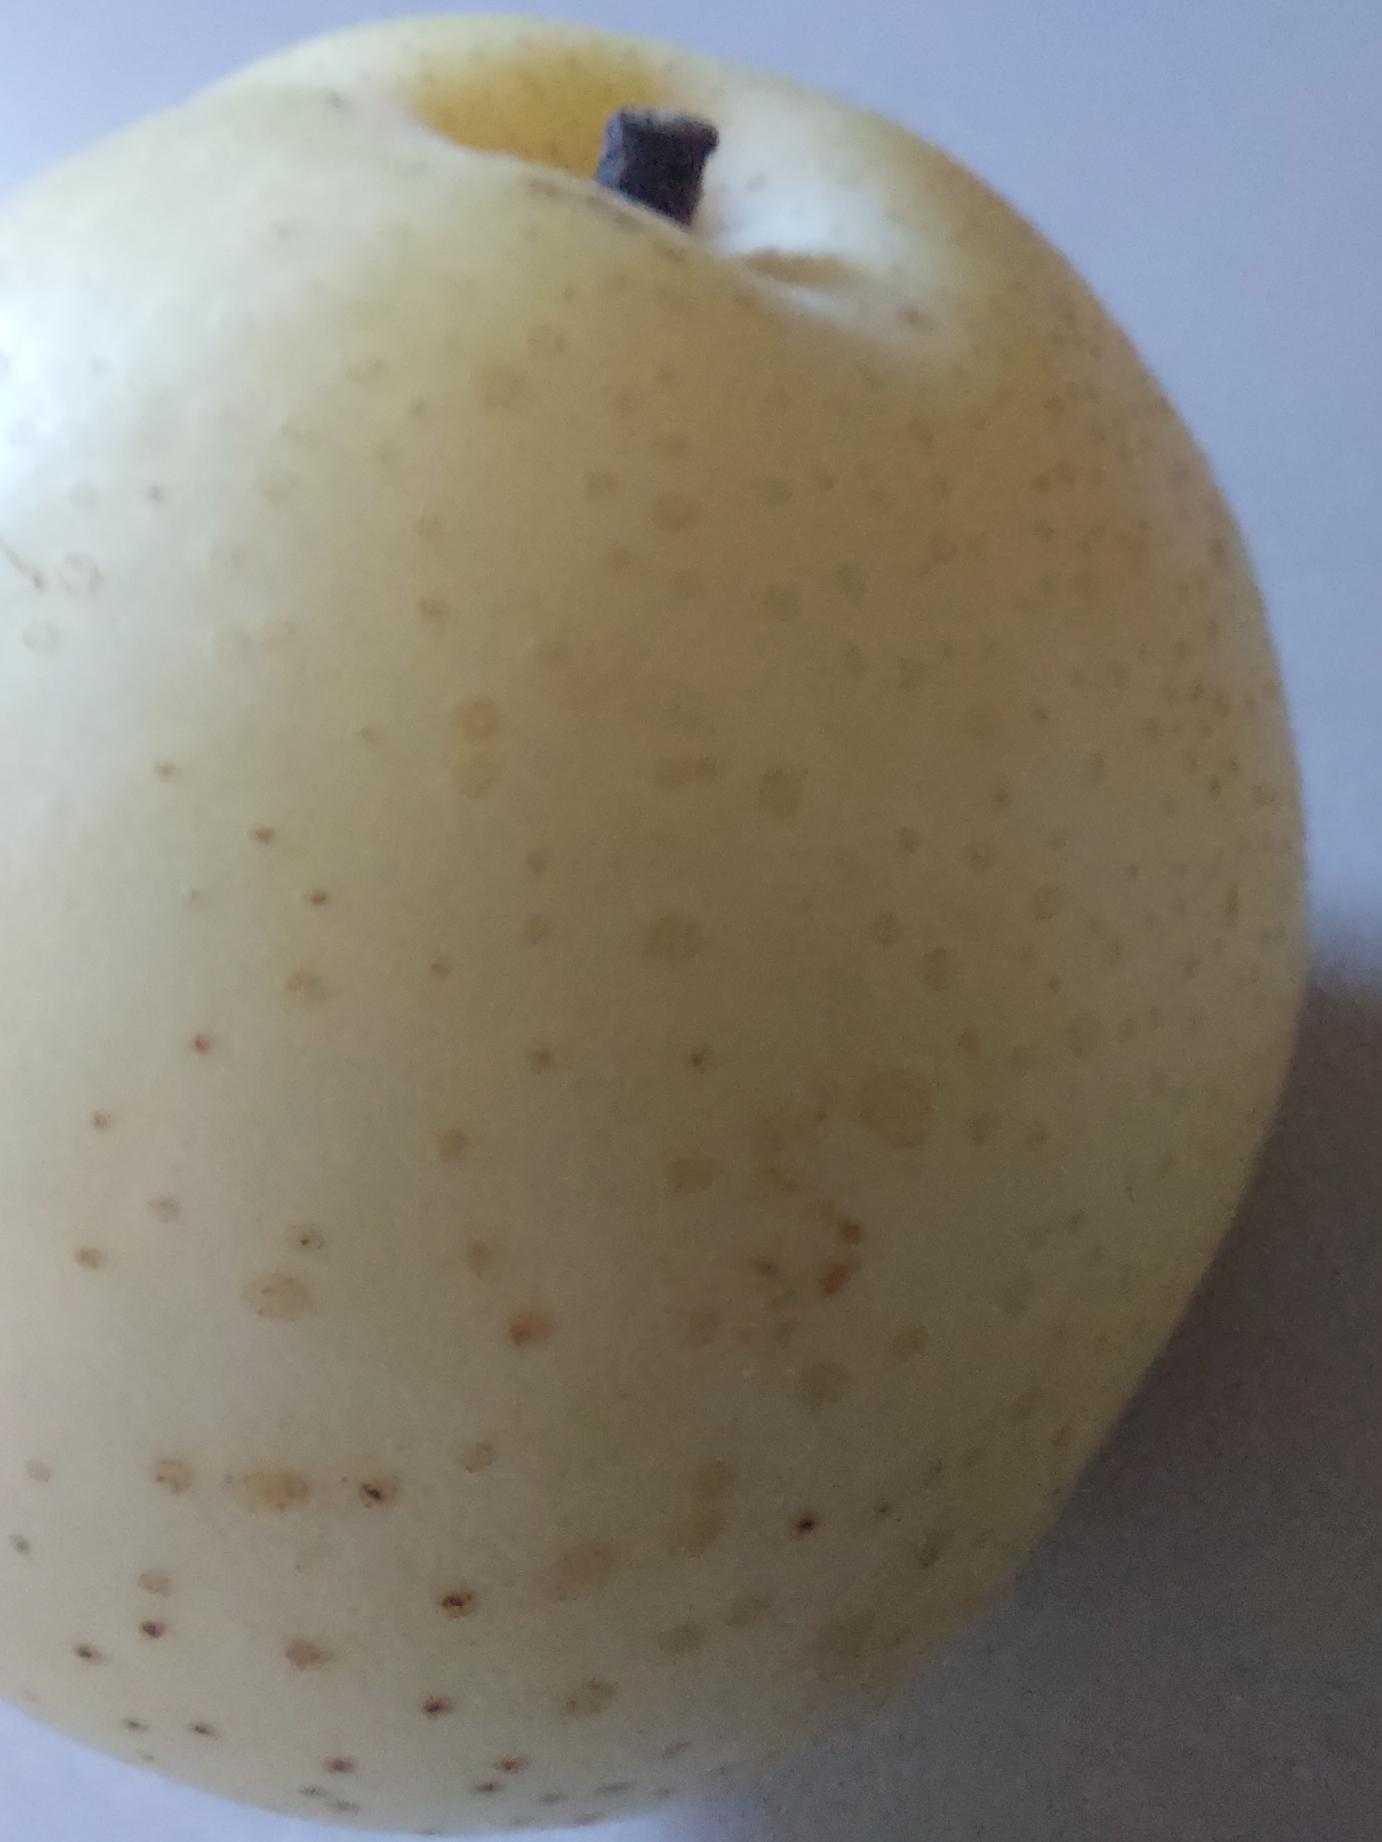Good Pear: (0, 4, 1330, 1838)
